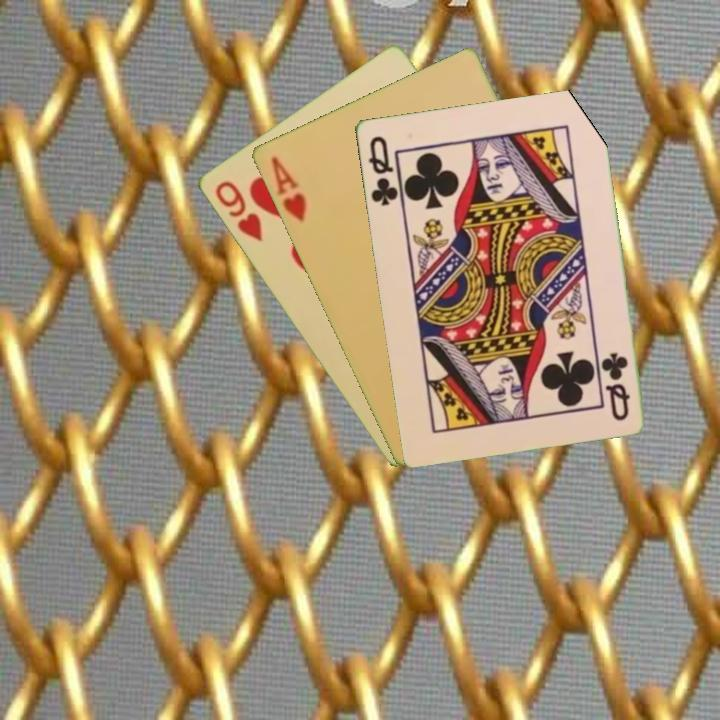9h: (210, 177, 265, 245)
Ah: (266, 152, 309, 225)
Qc: (364, 132, 404, 209), (599, 348, 632, 424)
